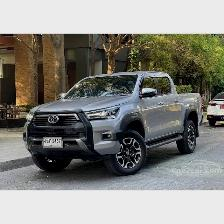NON-EV: (25, 67, 207, 177)
